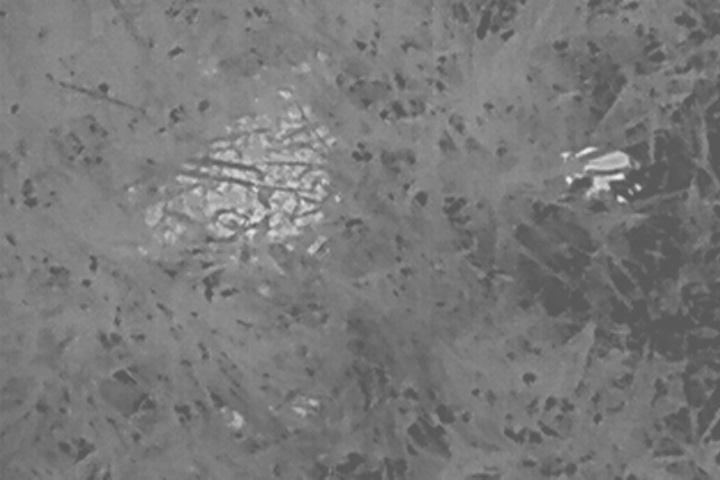landmine: (131, 99, 337, 266)
